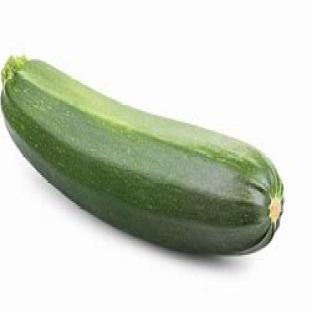Zucchini: (2, 58, 283, 254)
